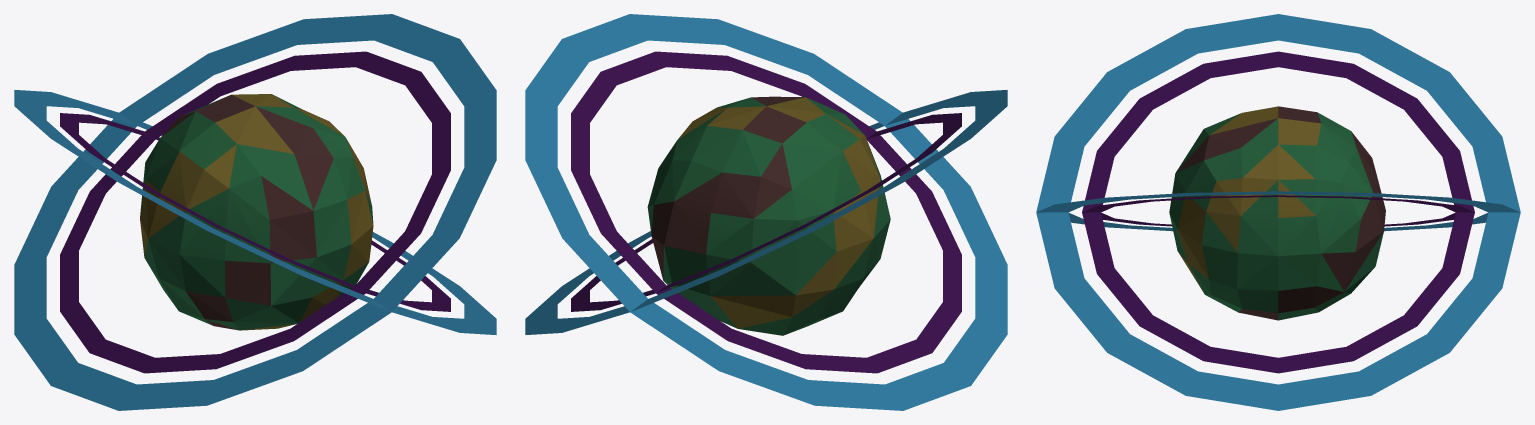
The model's file is Lo_Poly_Planet_01_by_Liz_Reddington.obj.
The picture shows the model from 3 angles, left to right: view 1: azimuth 30°, elevation 25°; view 2: azimuth 150°, elevation 25°; view 3: azimuth 270°, elevation 25°; orthographic projection. The views are drawn at different scales.
Visible parts, largest first — view 1: Lo_poly_Planet_01_by_Liz_Reddington; view 2: Lo_poly_Planet_01_by_Liz_Reddington; view 3: Lo_poly_Planet_01_by_Liz_Reddington.
Part boxes in pixels (bbox=[...]): Lo_poly_Planet_01_by_Liz_Reddington: bbox=[14, 14, 496, 410]; Lo_poly_Planet_01_by_Liz_Reddington: bbox=[525, 14, 1007, 410]; Lo_poly_Planet_01_by_Liz_Reddington: bbox=[1036, 14, 1520, 410].
Size of the model in its own units: 1151 by 665 by 1329.
